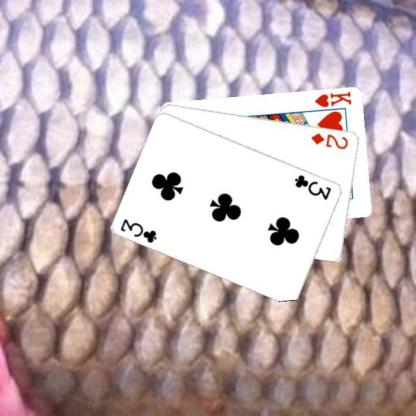2D: (308, 131, 350, 150)
3C: (292, 172, 333, 201), (118, 216, 158, 244)
KH: (312, 88, 352, 108)
